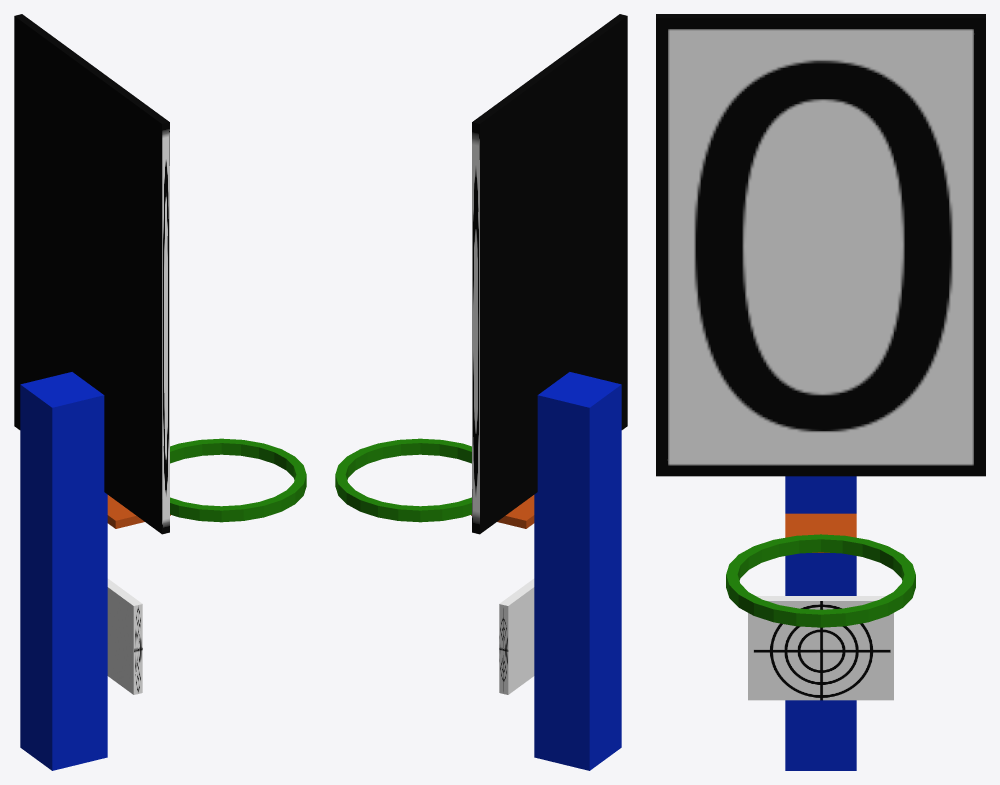
The model's file is sick_robot_day_2014_target_station_complete_0.dae.
The picture shows the model from 3 angles, left to right: view 1: azimuth 30°, elevation 25°; view 2: azimuth 150°, elevation 25°; view 3: azimuth 270°, elevation 25°; orthographic projection. The views are drawn at different scales.
Parts seen in each view (by area): view 1: Cube, Cube_003, Cylinder, Cube_001, Cube_004; view 2: Cube, Cube_003, Cylinder, Cube_001, Cube_004; view 3: Cube, Cube_001, Cube_003, Cylinder, Cube_004.
Part boxes in pixels (x1=…): Cube: x1=14, y1=14, x2=169, y2=534; Cube_003: x1=20, y1=372, x2=107, y2=770; Cylinder: x1=170, y1=438, x2=306, y2=522; Cube_001: x1=107, y1=578, x2=142, y2=694; Cube_004: x1=107, y1=495, x2=170, y2=528; Cube: x1=472, y1=14, x2=627, y2=534; Cube_003: x1=534, y1=372, x2=621, y2=770; Cylinder: x1=335, y1=438, x2=471, y2=522; Cube_001: x1=499, y1=578, x2=534, y2=694; Cube_004: x1=471, y1=495, x2=534, y2=528; Cube: x1=656, y1=14, x2=985, y2=476; Cube_001: x1=748, y1=596, x2=893, y2=700; Cube_003: x1=785, y1=476, x2=856, y2=770; Cylinder: x1=726, y1=534, x2=915, y2=627; Cube_004: x1=785, y1=513, x2=856, y2=552.
Bounding box in the file's own units: 0.5801 × 0.5736 × 1.45.
Materials: 5 (2 with a texture image).
